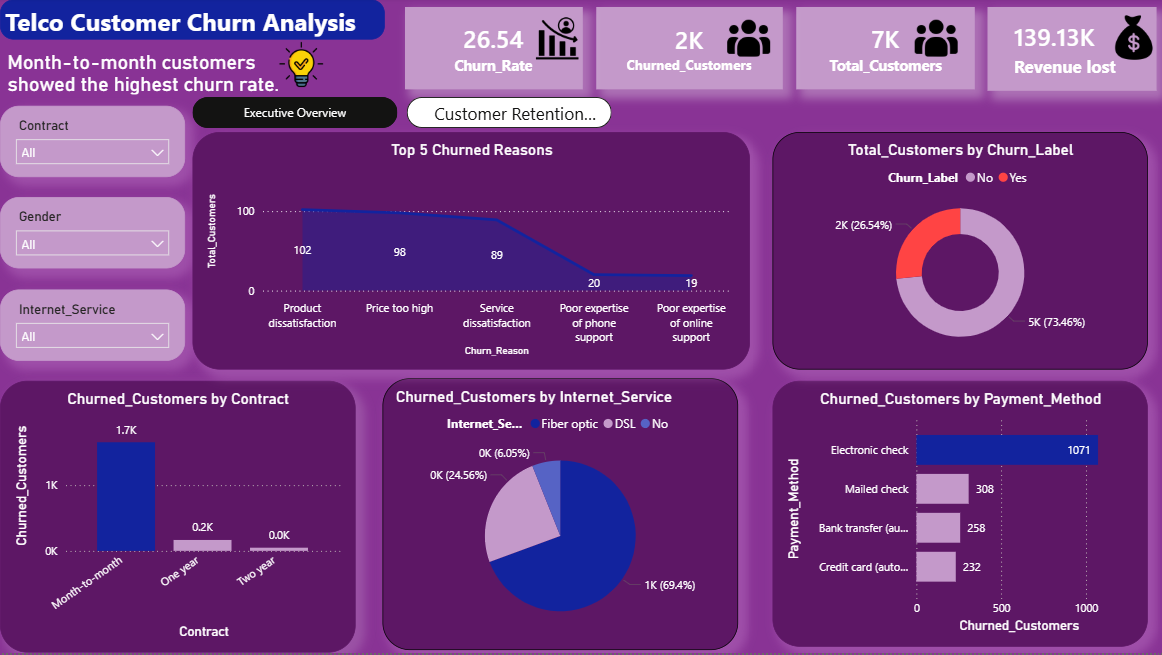

The dashboard page shown, as its layout file describes it:
{"tool":"powerbi","page":{"name":"Executive Overview","canvas":[1280,720],"ordinal":0},"visuals":[{"type":"barChart","fields":{"Y":["Telco_customer_churn.Churned_Customers"],"Category":["Telco_customer_churn.Payment_Method"]},"box":[848.3,421.7,411.7,291.7],"z":0},{"type":"slicer","fields":{"Values":["Telco_customer_churn.Contract"]},"box":[0,120,203.3,78.3],"z":1000},{"type":"donutChart","fields":{"Category":["Telco_customer_churn.Churn_Label"],"Y":["Telco_customer_churn.Total_Customers"]},"box":[848,148.2,411.7,260.7],"z":2000},{"type":"cardVisual","fields":{"Data":["Telco_customer_churn.Total_Customers"]},"box":[874.1,11,196.2,90.6],"z":3000},{"type":"cardVisual","fields":{"Data":["Telco_customer_churn.Revenue lost"]},"box":[1084.1,11,185.2,91.9],"z":4000},{"type":"pieChart","fields":{"Y":["Telco_customer_churn.Churned_Customers"],"Category":["Telco_customer_churn.Internet_Service"]},"box":[420,418.3,390,298.3],"z":5000},{"type":"columnChart","fields":{"Category":["Telco_customer_churn.Contract"],"Y":["Telco_customer_churn.Churned_Customers"]},"box":[0,421.7,390,298.3],"z":6000},{"type":"slicer","fields":{"Values":["Telco_customer_churn.Internet_Service"]},"box":[0,321.7,203.3,78.3],"z":7000},{"type":"slicer","fields":{"Values":["Telco_customer_churn.Gender"]},"box":[0,220,203.3,78.3],"z":8000},{"type":"stackedAreaChart","title":"Top 5 Churned Reasons","fields":{"Category":["Telco_customer_churn.Churn_Reason"],"Y":["Telco_customer_churn.Total_Customers"]},"box":[211.3,148.2,612,260.7],"z":9000},{"type":"cardVisual","fields":{"Data":["Telco_customer_churn.Churned_Customers"]},"box":[654.5,11,204.5,90.6],"z":10000},{"type":"cardVisual","fields":{"Data":["Telco_customer_churn.Churn_Rate"]},"box":[444.6,11,194.9,90.6],"z":11000},{"type":"actionButton","title":"Telco Customer Churn Analysis","box":[0,2.7,422.6,43.9],"z":12000},{"type":"actionButton","title":"Month-to-month customers showed the highest churn rate.","box":[8.2,59,322.5,57.6],"z":13000},{"type":"image","box":[306,45.3,49.4,57.6],"z":14000},{"type":"image","box":[1219.9,4.1,49.4,81],"z":15000},{"type":"image","box":[1001.7,22,52.1,46.7],"z":16000},{"type":"image","box":[584.6,20.6,54.9,49.4],"z":17000},{"type":"image","box":[795.9,22,52.1,46.7],"z":18000},{"type":"pageNavigator","box":[211.3,109.8,461.1,34.3],"z":18001}]}

Visuals, with their boxes in screenshot pixels (x1, y1, x2, y2), scaled from the page's 1280x720 canvas onto the 1162x655 screenshot:
barChart - Telco_customer_churn.Churned_Customers x Telco_customer_churn.Payment_Method: [x1=770, y1=384, x2=1144, y2=649]
slicer - Telco_customer_churn.Contract: [x1=0, y1=109, x2=185, y2=180]
donutChart - Telco_customer_churn.Churn_Label x Telco_customer_churn.Total_Customers: [x1=770, y1=135, x2=1144, y2=372]
cardVisual - Telco_customer_churn.Total_Customers: [x1=794, y1=10, x2=972, y2=92]
cardVisual - Telco_customer_churn.Revenue lost: [x1=984, y1=10, x2=1152, y2=94]
pieChart - Telco_customer_churn.Churned_Customers x Telco_customer_churn.Internet_Service: [x1=381, y1=381, x2=735, y2=652]
columnChart - Telco_customer_churn.Contract x Telco_customer_churn.Churned_Customers: [x1=0, y1=384, x2=354, y2=654]
slicer - Telco_customer_churn.Internet_Service: [x1=0, y1=293, x2=185, y2=364]
slicer - Telco_customer_churn.Gender: [x1=0, y1=200, x2=185, y2=271]
"Top 5 Churned Reasons" stackedAreaChart: [x1=192, y1=135, x2=747, y2=372]
cardVisual - Telco_customer_churn.Churned_Customers: [x1=594, y1=10, x2=780, y2=92]
cardVisual - Telco_customer_churn.Churn_Rate: [x1=404, y1=10, x2=581, y2=92]
"Telco Customer Churn Analysis" actionButton: [x1=0, y1=2, x2=384, y2=42]
"Month-to-month customers showed the highest churn rate." actionButton: [x1=7, y1=54, x2=300, y2=106]
image: [x1=278, y1=41, x2=323, y2=94]
image: [x1=1107, y1=4, x2=1152, y2=77]
image: [x1=909, y1=20, x2=957, y2=62]
image: [x1=531, y1=19, x2=581, y2=64]
image: [x1=723, y1=20, x2=770, y2=62]
pageNavigator: [x1=192, y1=100, x2=610, y2=131]
